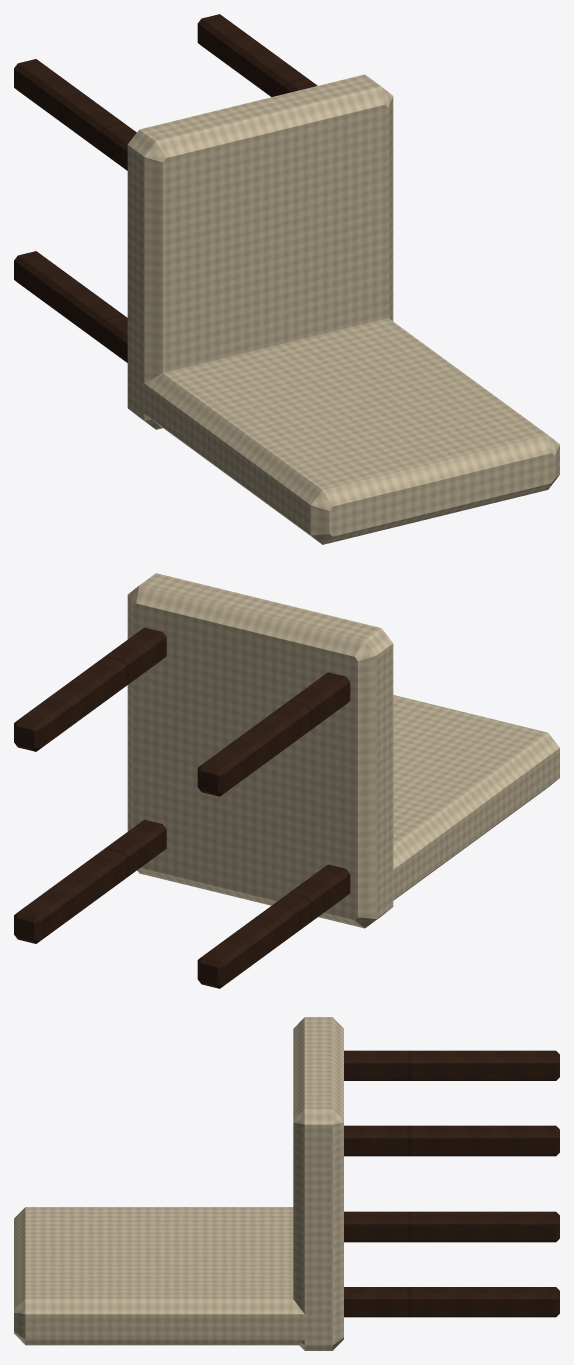
The model's file is dining_chair_0.obj.
The picture shows the model from 3 angles, top to bottom: view 1: azimuth 30°, elevation 25°; view 2: azimuth 150°, elevation 25°; view 3: azimuth 270°, elevation 25°; orthographic projection. The views are drawn at different scales.
Visible parts, largest first — view 1: dining_chair_0_fabric, dining_chair_0_walnut; view 2: dining_chair_0_fabric, dining_chair_0_walnut; view 3: dining_chair_0_fabric, dining_chair_0_walnut.
Part boxes in pixels (box(x1,y1,x2,y2)): dining_chair_0_fabric: box(127, 74, 559, 544); dining_chair_0_walnut: box(14, 14, 317, 362); dining_chair_0_fabric: box(127, 573, 559, 928); dining_chair_0_walnut: box(14, 627, 350, 988); dining_chair_0_fabric: box(14, 1017, 343, 1350); dining_chair_0_walnut: box(344, 1050, 559, 1317).
Bounding box in the file's own units: 19 × 21 × 43.
Materials: 2 (2 with a texture image).
